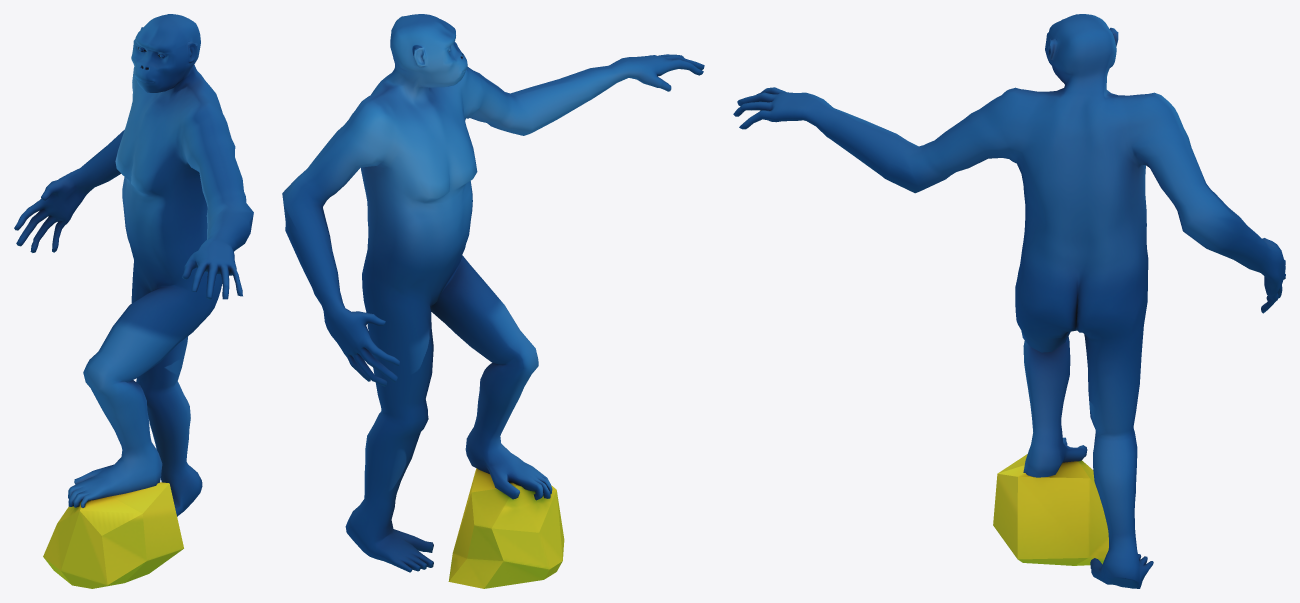
Rendered from ardi.glb.
3 views of the same model, side by side, from view 1: azimuth 30°, elevation 25°; view 2: azimuth 150°, elevation 25°; view 3: azimuth 270°, elevation 25° (orthographic). The views are drawn at different scales.
Visible parts, largest first — view 1: Ardi.baked; view 2: Ardi.baked; view 3: Ardi.baked.
Part boxes in pixels (x1,y1,x2,y2): Ardi.baked: (14,14,253,588); Ardi.baked: (282,14,704,588); Ardi.baked: (733,14,1285,588).
Bounding box in the file's own units: 0.5061 × 1.24 × 1.09.
1 material, 1 textured.
